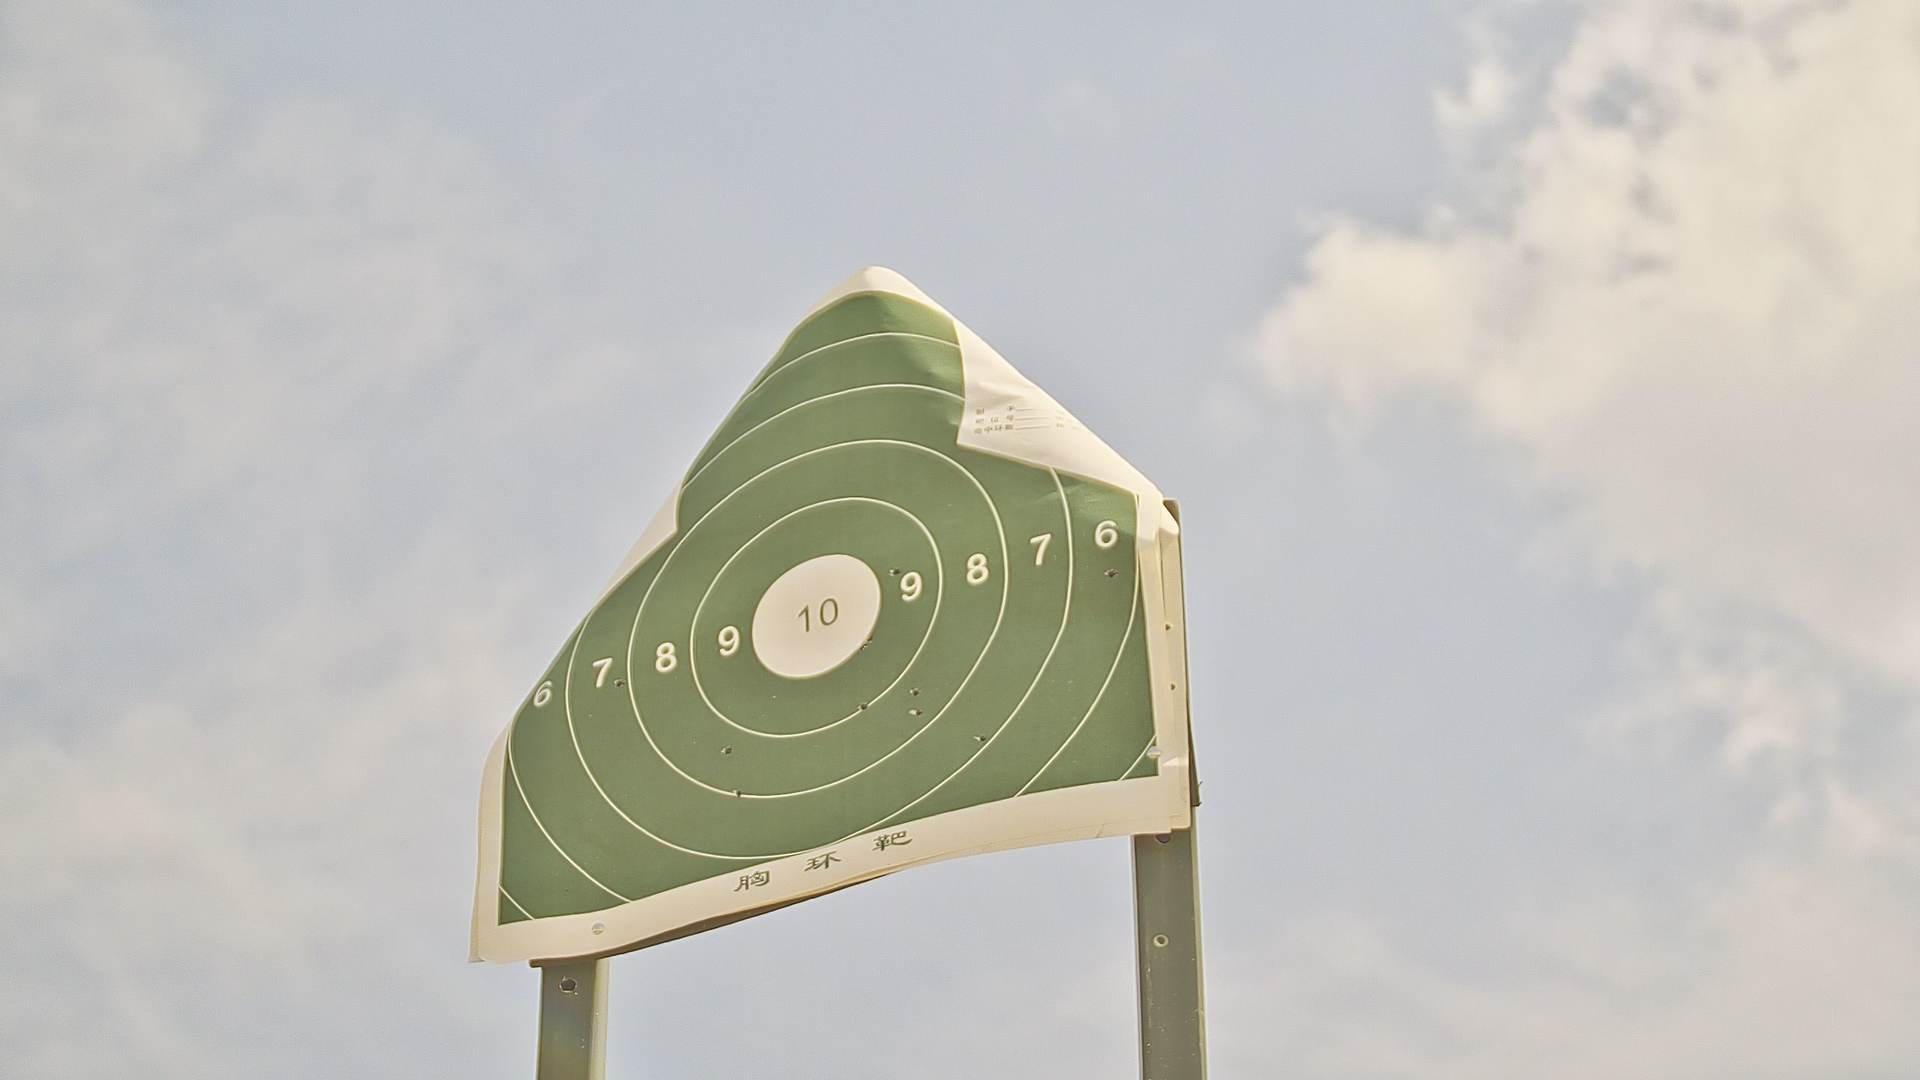hole: (910, 684, 920, 696), (1106, 568, 1117, 579), (723, 745, 733, 756), (977, 735, 989, 742), (858, 702, 869, 709), (615, 680, 624, 688), (891, 568, 901, 576), (858, 642, 866, 651), (913, 705, 920, 715), (735, 789, 742, 796), (866, 634, 877, 640)
kernel: (811, 617, 815, 618)
target: (491, 295, 1167, 926)
ten: (746, 551, 881, 678)
